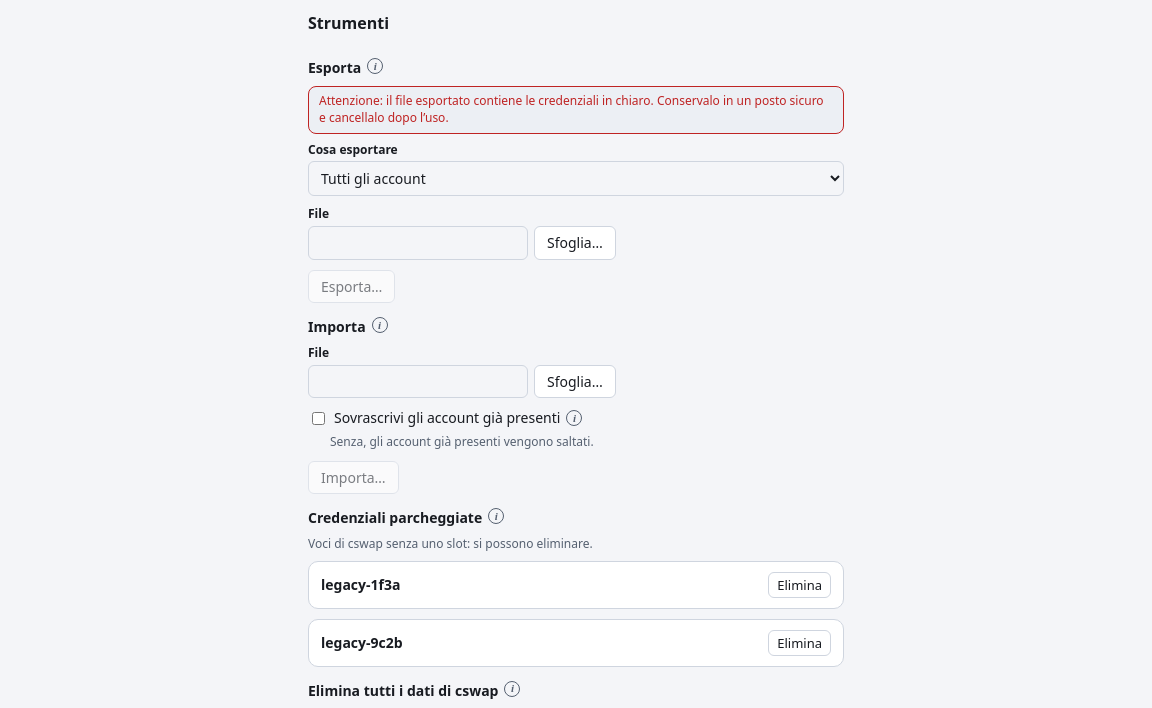
Scenario: ToolsPage: export › avvisa che il file contiene le credenziali e chiede conferma prima di esportare
Expected: the list named "Credenziali parcheggiate" is shown, [308,561,844,667]
Expected: the text "credenziali in chiaro" is shown, [319,92,824,126]
Click the button "Sfoglia…" below "Cosa esportare".
click(575, 243)  # box [534,226,616,260]
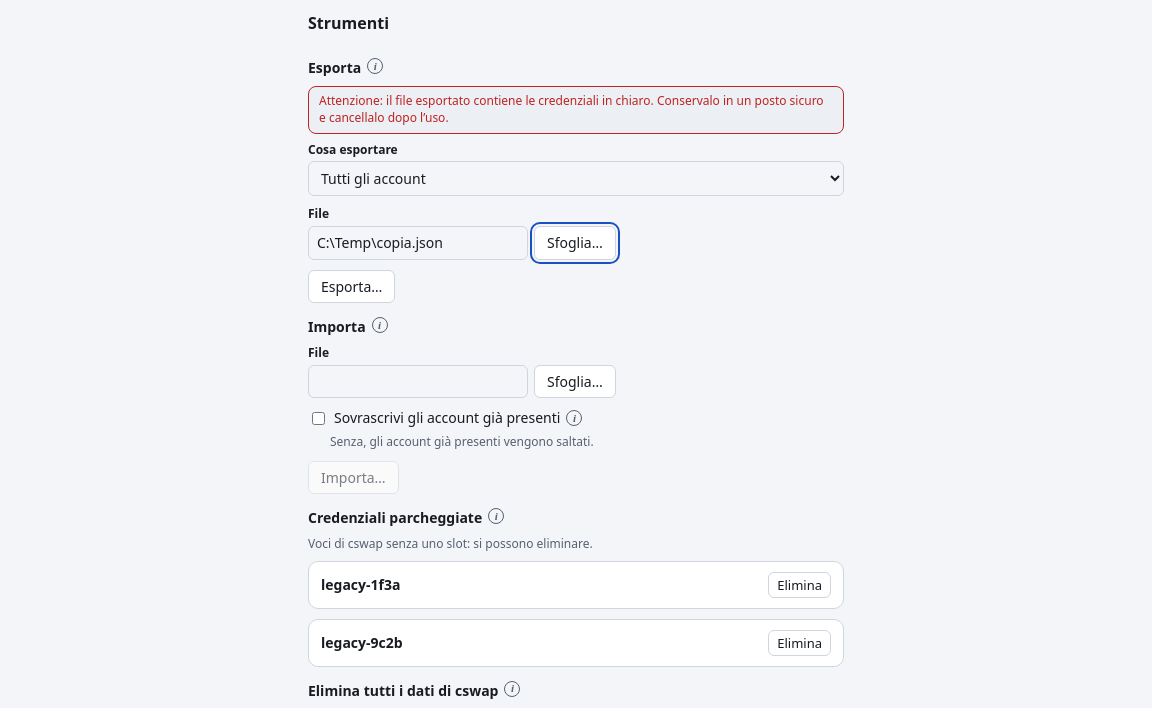
Result: the field labelled "File" below "Cosa esportare" holds "C:\\Temp\\copia.json" at [308,226,528,260]
Click the button "Esporta…".
click(352, 287)  # box [308,270,395,303]
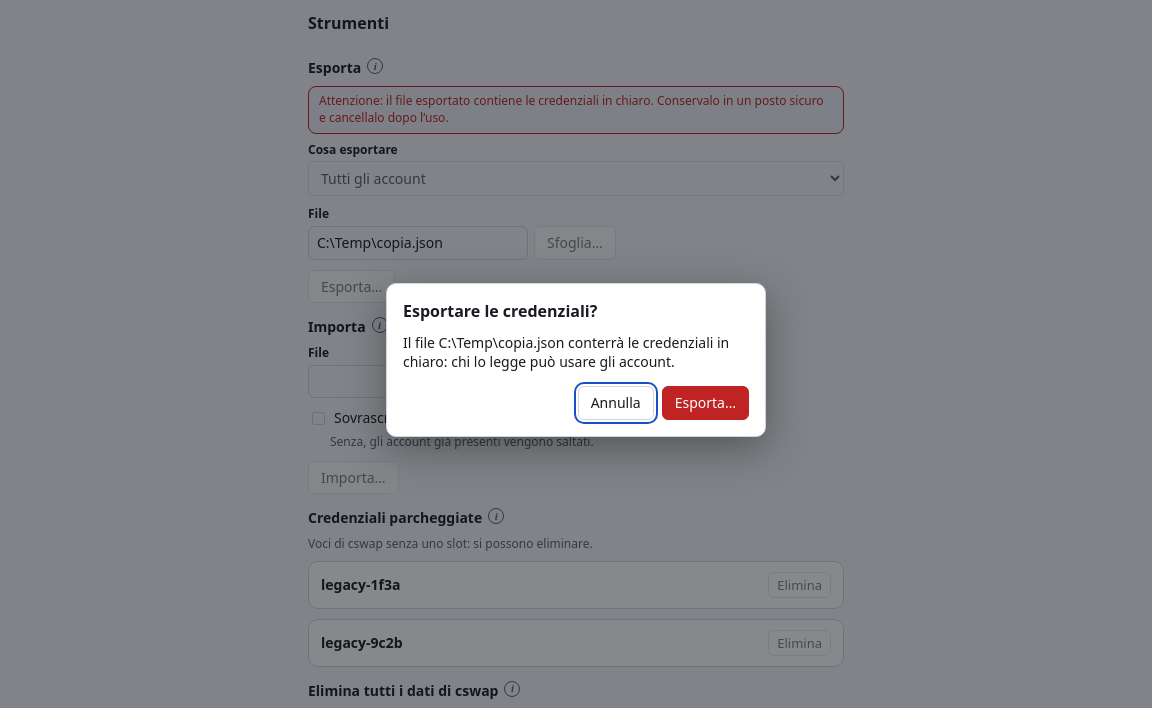
Result: the dialog shows "credenziali in chiaro" at [403,333,729,371]
Click the button "Esporta…".
click(705, 403)  # box [662,386,749,420]
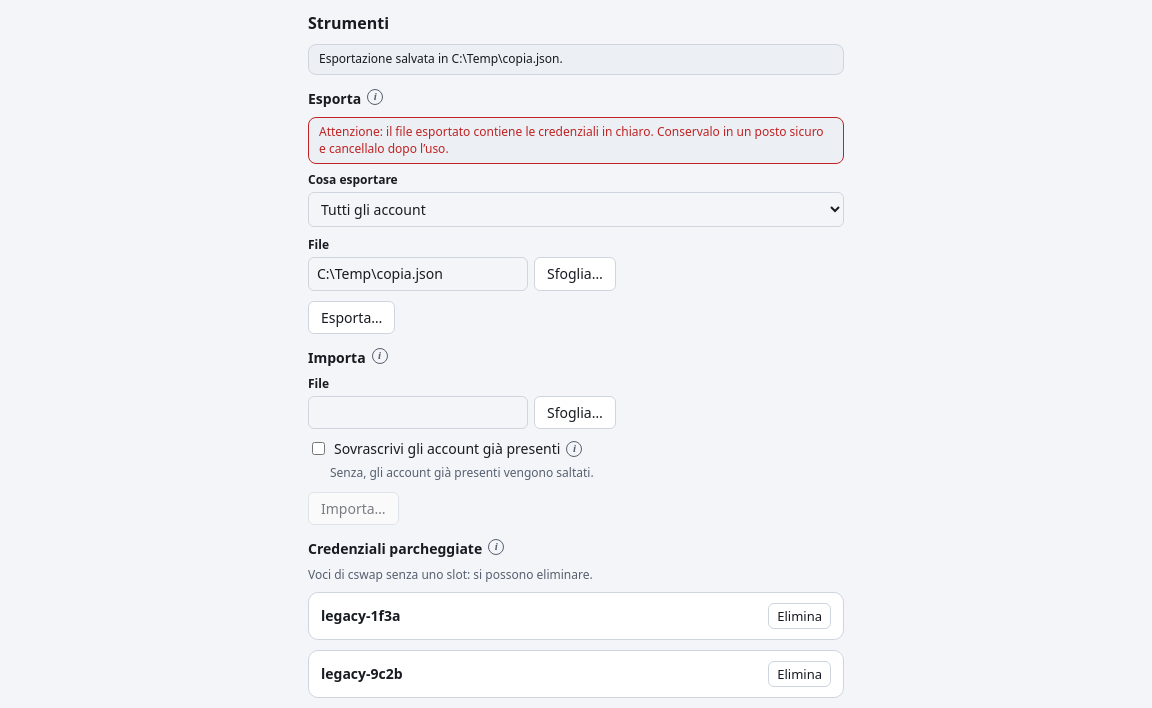
Result: the text "Esportazione salvata in C:\\Temp\\copia.json." is shown at [308,44,844,75]
